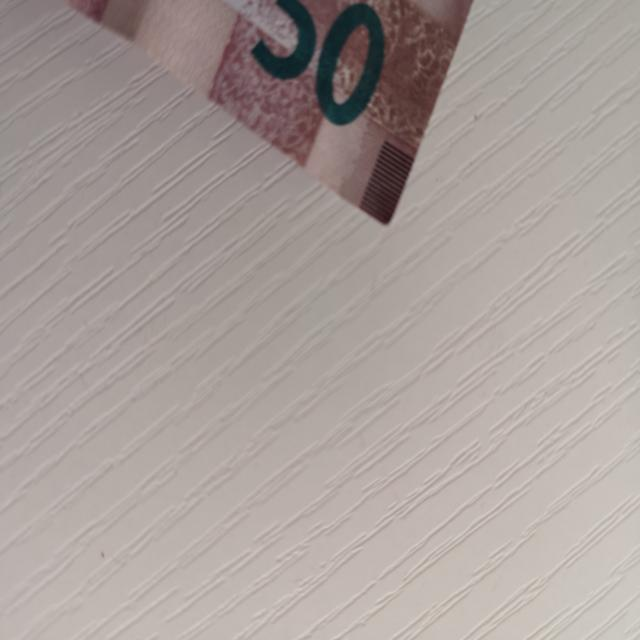50-dinar: (62, 0, 475, 225)
